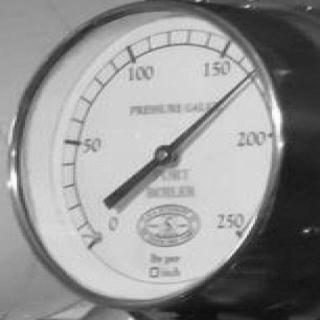gauge: (0, 0, 320, 320), (222, 220, 250, 244), (151, 144, 177, 168), (84, 233, 110, 257), (248, 63, 262, 80)
